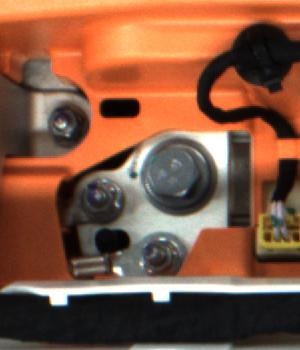nut_b: (141, 135, 220, 219)
screw_s: (81, 174, 123, 221), (137, 236, 182, 279), (45, 103, 86, 144)
